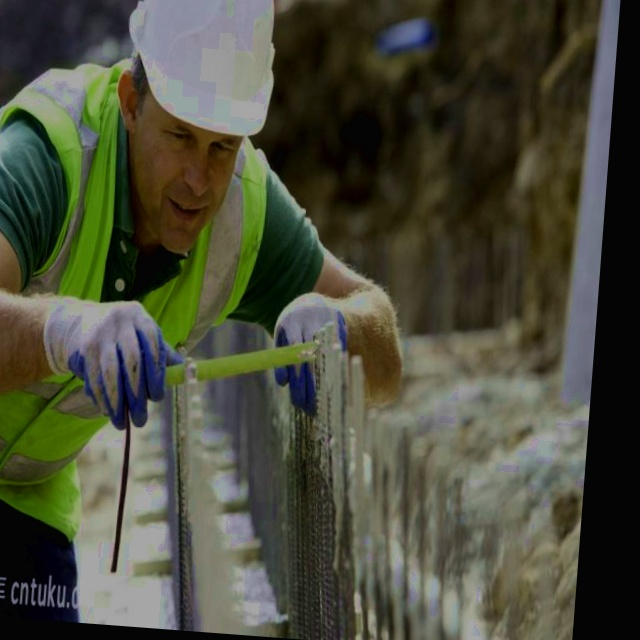Con_Casco: (123, 0, 283, 239)
Con_Chaleco: (0, 49, 129, 510)
